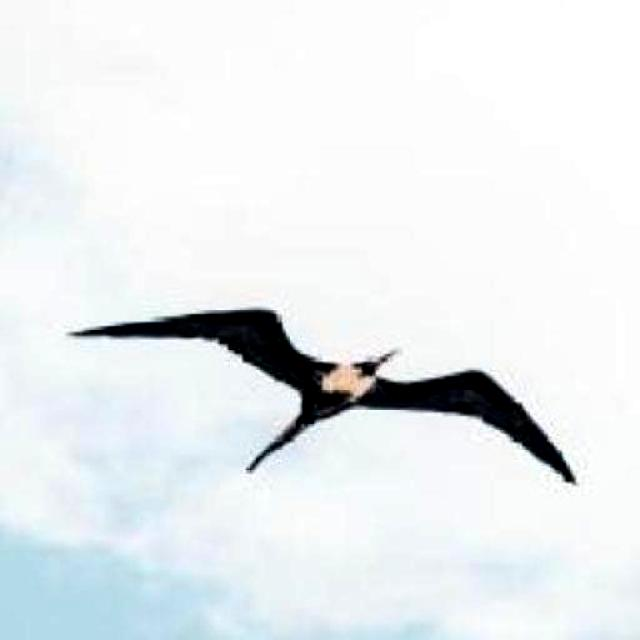airplane: (66, 310, 580, 486)
